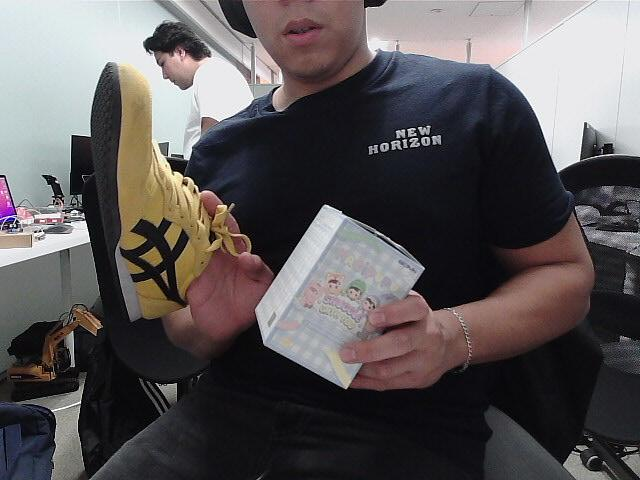Blind_box: (261, 208, 426, 394)
Shoes: (89, 62, 223, 332)
